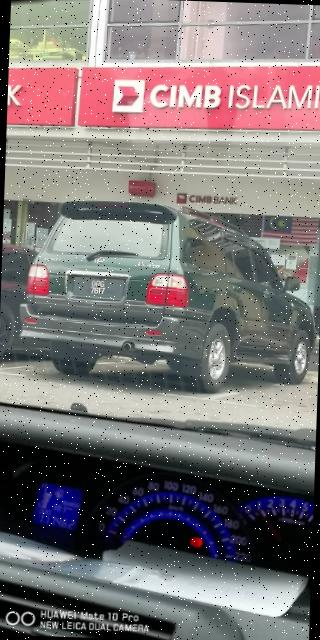License_Plate: (74, 277, 127, 302)
car: (23, 197, 320, 400)
